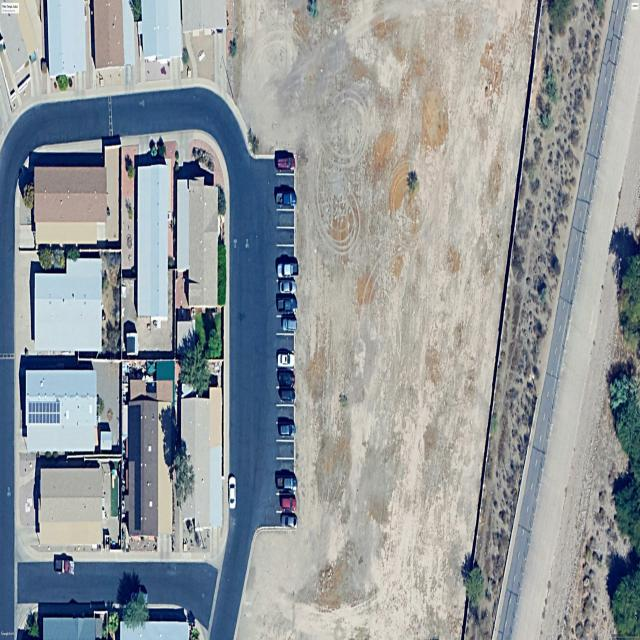Home: (34, 258, 102, 353), (180, 388, 223, 537), (33, 166, 111, 245), (25, 369, 97, 453), (136, 161, 170, 321), (176, 178, 218, 307), (38, 467, 104, 546), (128, 399, 164, 537), (45, 0, 86, 76), (141, 0, 182, 62), (93, 0, 125, 69), (181, 0, 227, 32)
